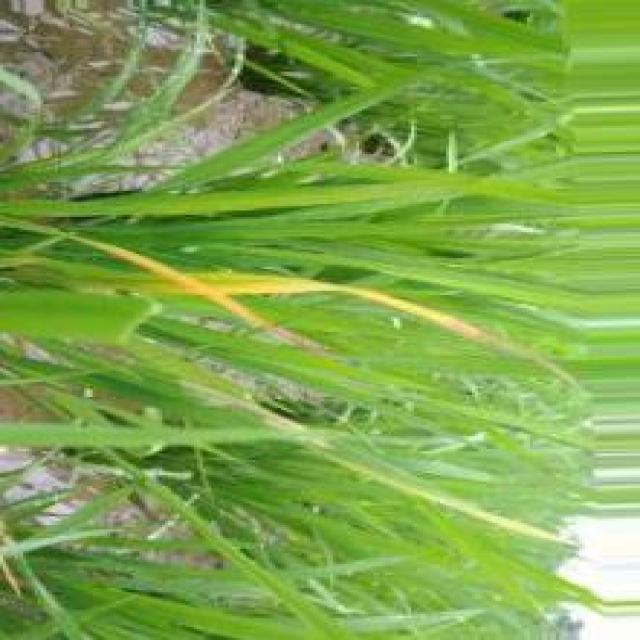Rice Tungro: (192, 275, 567, 378), (67, 234, 324, 352)
